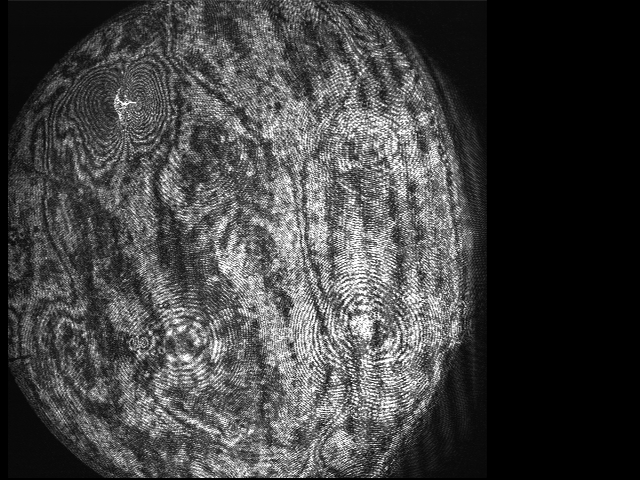plume: (73, 53, 173, 170)
